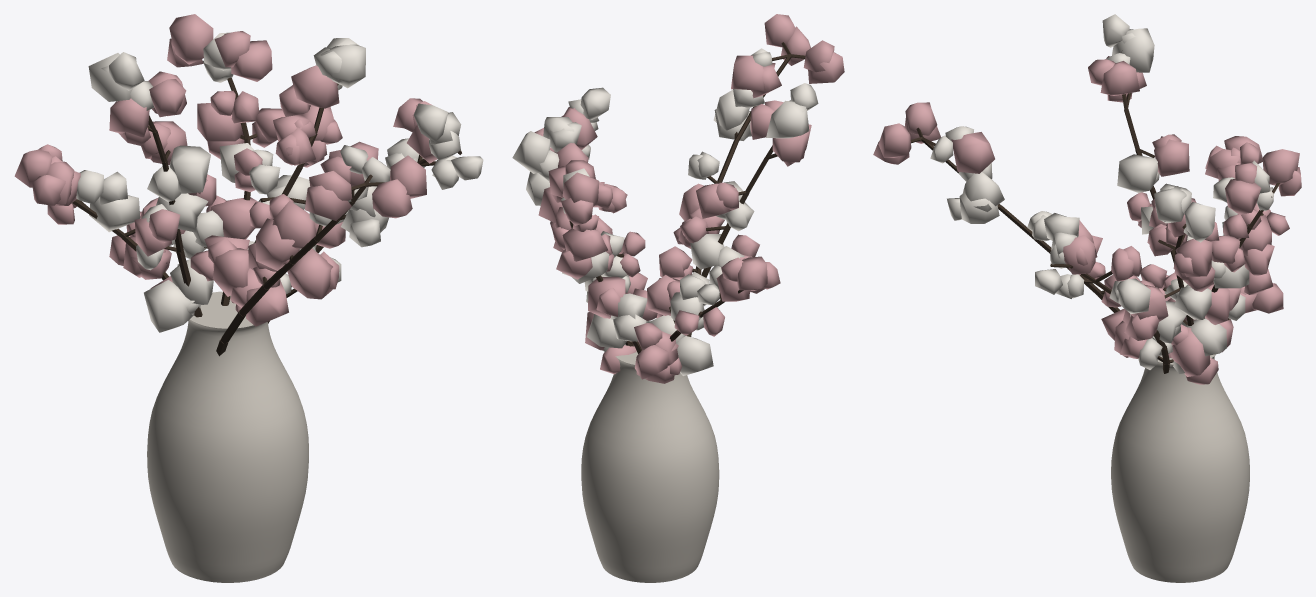
Rendered from entry_flowers_small.gltf.
3 renders of one model, left to right at view 1: azimuth 30°, elevation 25°; view 2: azimuth 150°, elevation 25°; view 3: azimuth 270°, elevation 25°, orthographic. The views are drawn at different scales.
Parts seen in each view (by area): view 1: EntryFlowersSmall_BlossomBlush, EntryFlowersSmall_Vase, EntryFlowersSmall_BlossomWhite, EntryFlowersSmall_Stems; view 2: EntryFlowersSmall_BlossomBlush, EntryFlowersSmall_Vase, EntryFlowersSmall_BlossomWhite, EntryFlowersSmall_Stems; view 3: EntryFlowersSmall_BlossomBlush, EntryFlowersSmall_Vase, EntryFlowersSmall_BlossomWhite, EntryFlowersSmall_Stems.
Boxes of the visible parts, x1=… form: EntryFlowersSmall_BlossomBlush: x1=14, y1=14, x2=437, y2=326; EntryFlowersSmall_Vase: x1=147, y1=291, x2=308, y2=582; EntryFlowersSmall_BlossomWhite: x1=76, y1=32, x2=483, y2=332; EntryFlowersSmall_Stems: x1=72, y1=77, x2=461, y2=356; EntryFlowersSmall_BlossomBlush: x1=534, y1=14, x2=844, y2=383; EntryFlowersSmall_Vase: x1=581, y1=346, x2=719, y2=582; EntryFlowersSmall_BlossomWhite: x1=512, y1=48, x2=818, y2=375; EntryFlowersSmall_Stems: x1=569, y1=42, x2=805, y2=353; EntryFlowersSmall_BlossomBlush: x1=873, y1=56, x2=1301, y2=384; EntryFlowersSmall_Vase: x1=1111, y1=354, x2=1249, y2=582; EntryFlowersSmall_BlossomWhite: x1=930, y1=14, x2=1273, y2=373; EntryFlowersSmall_Stems: x1=910, y1=50, x2=1280, y2=373.
Size of the model in its own units: 0.5306 by 0.8245 by 0.6557.
